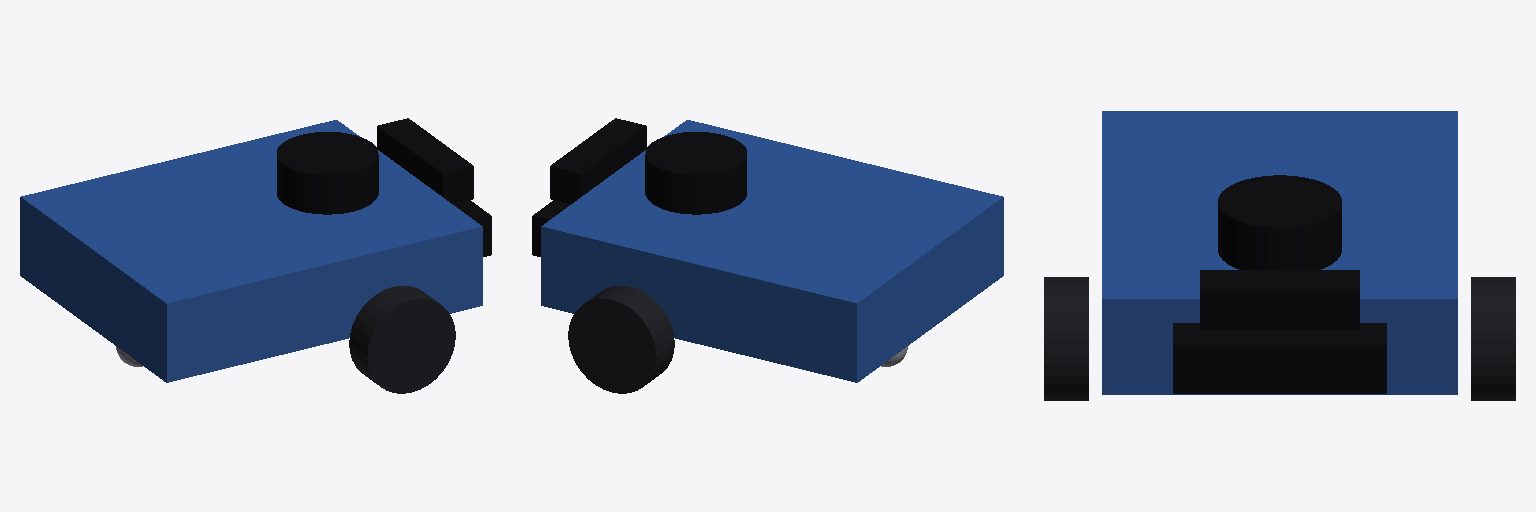
The robot description file, URDF, robot "diff_bot":
<?xml version="1.0" ?>
<!-- Generated by Robot Studio 1.0.0 from the 'diff' template (Differential base with caster).
     Parameters are xacro properties below; sensors are switched with arguments, e.g.
       xacro diff_bot.urdf.xacro use_lidar:=false
     Software-generated: check masses, dimensions and limits against the real robot. -->
<robot name="diff_bot">
  <material name="chassis">
    <color rgba="0.2 0.36 0.62 1"/>
  </material>
  <material name="wheel">
    <color rgba="0.15 0.15 0.17 1"/>
  </material>
  <material name="hub">
    <color rgba="0.92 0.42 0.12 1"/>
  </material>
  <material name="caster">
    <color rgba="0.6 0.6 0.62 1"/>
  </material>
  <material name="sensor">
    <color rgba="0.08 0.08 0.09 1"/>
  </material>
  <link name="base_footprint"/>
  <link name="base_link">
    <inertial>
      <origin rpy="0 0 0" xyz="0 0 0.03"/>
      <mass value="2.5"/>
      <inertia ixx="0.009083333333333334" ixy="0" ixz="0" iyy="0.013770833333333335" iyz="0" izz="0.02135416666666667"/>
    </inertial>
    <visual>
      <origin rpy="0 0 0" xyz="0 0 0.03"/>
      <geometry>
        <box size="0.25 0.2 0.06"/>
      </geometry>
      <material name="chassis"/>
    </visual>
    <collision>
      <origin rpy="0 0 0" xyz="0 0 0.03"/>
      <geometry>
        <box size="0.25 0.2 0.06"/>
      </geometry>
    </collision>
  </link>
  <joint name="base_joint" type="fixed">
    <parent link="base_footprint"/>
    <child link="base_link"/>
    <origin rpy="0 0 0" xyz="0 0 0.035"/>
  </joint>
  <link name="left_wheel">
    <inertial>
      <origin rpy="0 0 0" xyz="0 0 0"/>
      <mass value="0.1"/>
      <inertia ixx="3.583333333333334e-05" ixy="0" ixz="0" iyy="6.125000000000001e-05" iyz="0" izz="3.583333333333334e-05"/>
    </inertial>
    <visual>
      <origin rpy="1.5707963267948966 0 0" xyz="0 0 0"/>
      <geometry>
        <cylinder length="0.025" radius="0.035"/>
      </geometry>
      <material name="wheel"/>
    </visual>
    <collision>
      <origin rpy="1.5707963267948966 0 0" xyz="0 0 0"/>
      <geometry>
        <cylinder length="0.025" radius="0.035"/>
      </geometry>
    </collision>
  </link>
  <joint name="left_wheel_joint" type="continuous">
    <parent link="base_link"/>
    <child link="left_wheel"/>
    <origin rpy="0 0 0" xyz="0.05 0.12 0"/>
    <axis xyz="0 1 0"/>
    <limit effort="1" velocity="15"/>
  </joint>
  <link name="right_wheel">
    <inertial>
      <origin rpy="0 0 0" xyz="0 0 0"/>
      <mass value="0.1"/>
      <inertia ixx="3.583333333333334e-05" ixy="0" ixz="0" iyy="6.125000000000001e-05" iyz="0" izz="3.583333333333334e-05"/>
    </inertial>
    <visual>
      <origin rpy="1.5707963267948966 0 0" xyz="0 0 0"/>
      <geometry>
        <cylinder length="0.025" radius="0.035"/>
      </geometry>
      <material name="wheel"/>
    </visual>
    <collision>
      <origin rpy="1.5707963267948966 0 0" xyz="0 0 0"/>
      <geometry>
        <cylinder length="0.025" radius="0.035"/>
      </geometry>
    </collision>
  </link>
  <joint name="right_wheel_joint" type="continuous">
    <parent link="base_link"/>
    <child link="right_wheel"/>
    <origin rpy="0 0 0" xyz="0.05 -0.12 0"/>
    <axis xyz="0 1 0"/>
    <limit effort="1" velocity="15"/>
  </joint>
  <!-- Caster ball touching the ground (base_link is at wheel axle height). -->
  <link name="caster_link">
    <inertial>
      <origin rpy="0 0 0" xyz="0 0 0"/>
      <mass value="0.03"/>
      <inertia ixx="2.6999999999999996e-06" ixy="0" ixz="0" iyy="2.6999999999999996e-06" iyz="0" izz="2.6999999999999996e-06"/>
    </inertial>
    <visual>
      <origin rpy="0 0 0" xyz="0 0 0"/>
      <geometry>
        <sphere radius="0.015"/>
      </geometry>
      <material name="caster"/>
    </visual>
    <collision>
      <origin rpy="0 0 0" xyz="0 0 0"/>
      <geometry>
        <sphere radius="0.015"/>
      </geometry>
    </collision>
  </link>
  <joint name="caster_joint" type="fixed">
    <parent link="base_link"/>
    <child link="caster_link"/>
    <origin rpy="0 0 0" xyz="-0.09 0 -0.020000000000000004"/>
  </joint>
  <link name="lidar_link">
    <inertial>
      <origin rpy="0 0 0" xyz="0 0 0"/>
      <mass value="0.17"/>
      <inertia ixx="7.472916666666668e-05" ixy="0" ixz="0" iyy="7.472916666666668e-05" iyz="0" izz="0.00010412500000000004"/>
    </inertial>
    <visual>
      <origin rpy="0 0 0" xyz="0 0 0"/>
      <geometry>
        <cylinder length="0.04" radius="0.035"/>
      </geometry>
      <material name="sensor"/>
    </visual>
    <collision>
      <origin rpy="0 0 0" xyz="0 0 0"/>
      <geometry>
        <cylinder length="0.04" radius="0.035"/>
      </geometry>
    </collision>
  </link>
  <joint name="lidar_joint" type="fixed">
    <parent link="base_link"/>
    <child link="lidar_link"/>
    <origin rpy="0 0 0" xyz="0.06 0 0.07"/>
  </joint>
  <link name="imu_link">
    <inertial>
      <origin rpy="0 0 0" xyz="0 0 0"/>
      <mass value="0.01"/>
      <inertia ixx="3.5416666666666673e-07" ixy="0" ixz="0" iyy="3.5416666666666673e-07" iyz="0" izz="6.666666666666668e-07"/>
    </inertial>
    <visual>
      <origin rpy="0 0 0" xyz="0 0 0"/>
      <geometry>
        <box size="0.02 0.02 0.005"/>
      </geometry>
      <material name="sensor"/>
    </visual>
    <collision>
      <origin rpy="0 0 0" xyz="0 0 0"/>
      <geometry>
        <box size="0.02 0.02 0.005"/>
      </geometry>
    </collision>
  </link>
  <joint name="imu_joint" type="fixed">
    <parent link="base_link"/>
    <child link="imu_link"/>
    <origin rpy="0 0 0" xyz="0 0 0.02"/>
  </joint>
  <link name="camera_link">
    <inertial>
      <origin rpy="0 0 0" xyz="0 0 0"/>
      <mass value="0.06"/>
      <inertia ixx="4.3624999999999997e-05" ixy="0" ixz="0" iyy="6.25e-06" iyz="0" izz="4.3624999999999997e-05"/>
    </inertial>
    <visual>
      <origin rpy="0 0 0" xyz="0 0 0"/>
      <geometry>
        <box size="0.025 0.09 0.025"/>
      </geometry>
      <material name="sensor"/>
    </visual>
    <collision>
      <origin rpy="0 0 0" xyz="0 0 0"/>
      <geometry>
        <box size="0.025 0.09 0.025"/>
      </geometry>
    </collision>
  </link>
  <joint name="camera_joint" type="fixed">
    <parent link="base_link"/>
    <child link="camera_link"/>
    <origin rpy="0 0 0" xyz="0.1375 0 0.065"/>
  </joint>
  <link name="camera_optical_frame"/>
  <joint name="camera_optical_joint" type="fixed">
    <parent link="camera_link"/>
    <child link="camera_optical_frame"/>
    <origin rpy="-1.5707963267948966 0 -1.5707963267948966" xyz="0 0 0"/>
  </joint>
  <link name="depth_camera_link">
    <inertial>
      <origin rpy="0 0 0" xyz="0 0 0"/>
      <mass value="0.1"/>
      <inertia ixx="0.0001275" ixy="0" ixz="0" iyy="1.5e-05" iyz="0" izz="0.0001275"/>
    </inertial>
    <visual>
      <origin rpy="0 0 0" xyz="0 0 0"/>
      <geometry>
        <box size="0.03 0.12 0.03"/>
      </geometry>
      <material name="sensor"/>
    </visual>
    <collision>
      <origin rpy="0 0 0" xyz="0 0 0"/>
      <geometry>
        <box size="0.03 0.12 0.03"/>
      </geometry>
    </collision>
  </link>
  <joint name="depth_camera_joint" type="fixed">
    <parent link="base_link"/>
    <child link="depth_camera_link"/>
    <origin rpy="0 0 0" xyz="0.14 0 0.03"/>
  </joint>
  <link name="depth_camera_optical_frame"/>
  <joint name="depth_camera_optical_joint" type="fixed">
    <parent link="depth_camera_link"/>
    <child link="depth_camera_optical_frame"/>
    <origin rpy="-1.5707963267948966 0 -1.5707963267948966" xyz="0 0 0"/>
  </joint>
</robot>

--- What the picture shows (computed from the rendered views, not written in the file) ---
The picture shows the robot from 3 angles, left to right: view 1: azimuth 30°, elevation 25°; view 2: azimuth 150°, elevation 25°; view 3: azimuth 270°, elevation 25°; orthographic projection.
Robot: diff_bot — 11 links, 10 joints (2 continuous, 8 fixed); root link base_footprint; default pose: all joints at 0.
Visible links, largest first — view 1: base_link, right_wheel, lidar_link, camera_link, depth_camera_link; view 2: base_link, left_wheel, lidar_link, camera_link, depth_camera_link; view 3: base_link, depth_camera_link, lidar_link, camera_link, left_wheel, right_wheel.
Link boxes in pixels (bbox=[...]): base_link: bbox=[20, 120, 482, 382]; right_wheel: bbox=[349, 286, 455, 393]; lidar_link: bbox=[277, 132, 378, 214]; camera_link: bbox=[377, 118, 473, 203]; depth_camera_link: bbox=[453, 200, 491, 256]; base_link: bbox=[541, 120, 1003, 382]; left_wheel: bbox=[568, 286, 674, 393]; lidar_link: bbox=[645, 132, 746, 214]; camera_link: bbox=[550, 118, 646, 203]; depth_camera_link: bbox=[532, 200, 570, 256]; base_link: bbox=[1102, 111, 1457, 394]; depth_camera_link: bbox=[1173, 323, 1386, 393]; lidar_link: bbox=[1218, 175, 1341, 269]; camera_link: bbox=[1200, 270, 1359, 329]; left_wheel: bbox=[1471, 277, 1515, 400]; right_wheel: bbox=[1044, 277, 1088, 400].
Bounding box of the posed robot: 0.28 × 0.265 × 0.125 m (x, y, z).
Geometry: primitives only (box / cylinder / sphere), no mesh files.
